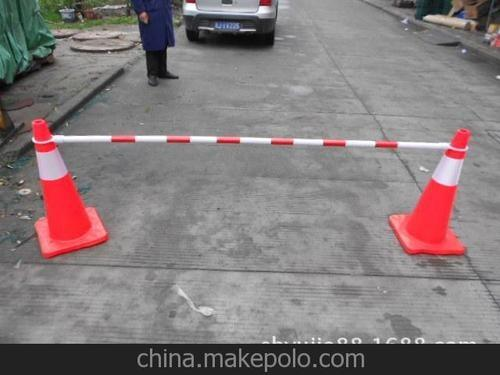cone_barrel: (25, 119, 99, 250), (395, 130, 471, 257)
